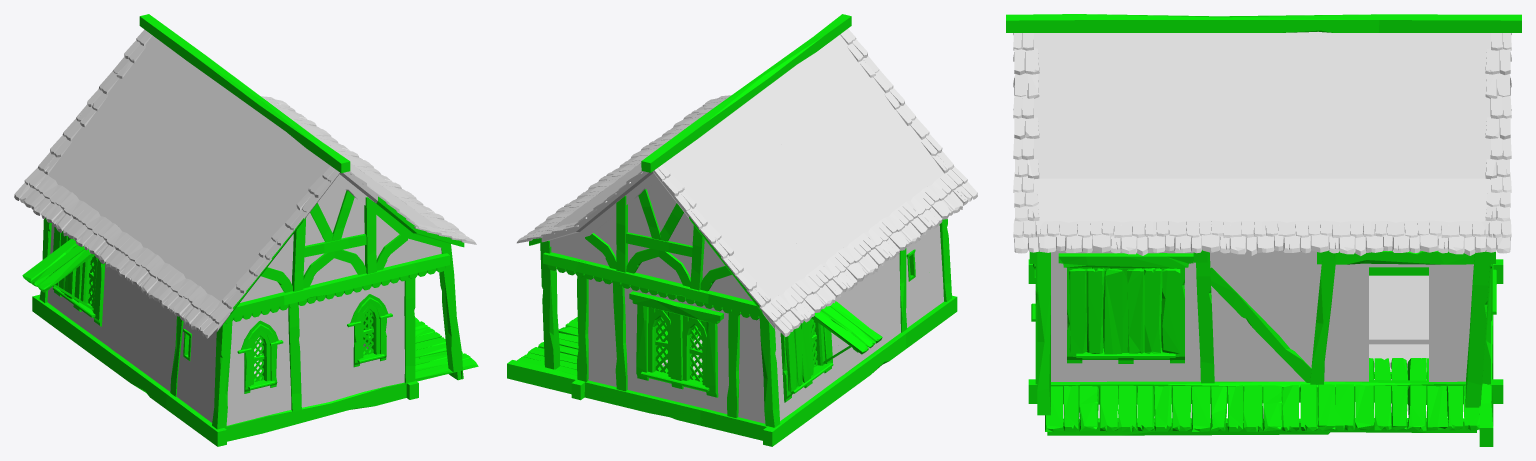
Rendered from SM_House_C_Fantasy_Base.fbx.
3 views of the same model, side by side, from view 1: azimuth 30°, elevation 25°; view 2: azimuth 150°, elevation 25°; view 3: azimuth 270°, elevation 25° (orthographic). The views are drawn at different scales.
Parts seen in each view (by area): view 1: SM_House_C_Fantasy_Base; view 2: SM_House_C_Fantasy_Base; view 3: SM_House_C_Fantasy_Base.
Part boxes in pixels (x1,y1,x2,y2): SM_House_C_Fantasy_Base: (14, 14, 478, 446); SM_House_C_Fantasy_Base: (507, 14, 977, 446); SM_House_C_Fantasy_Base: (1006, 14, 1521, 446).
Bounding box in the file's own units: 8.69 × 6.81 × 9.46.
